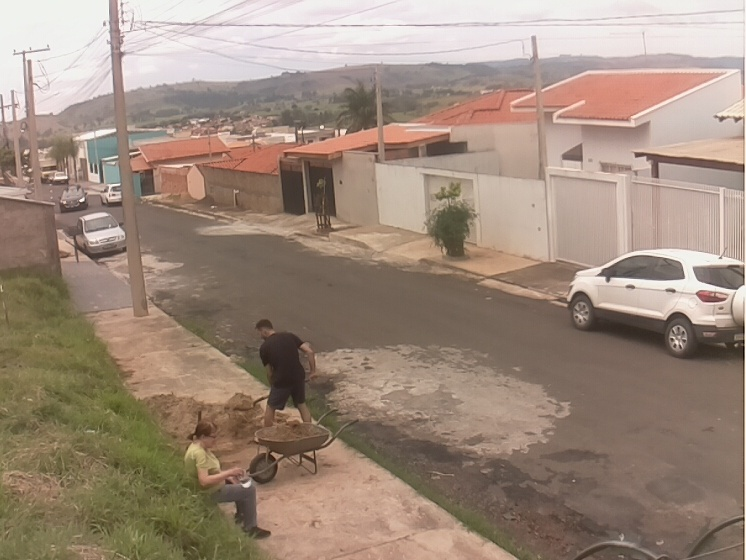person: (181, 419, 272, 540), (256, 318, 317, 425)
